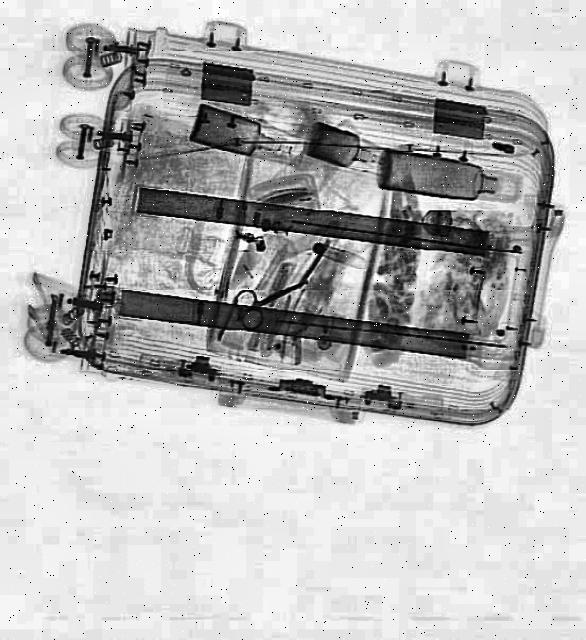Scissors: (229, 260, 316, 334)
